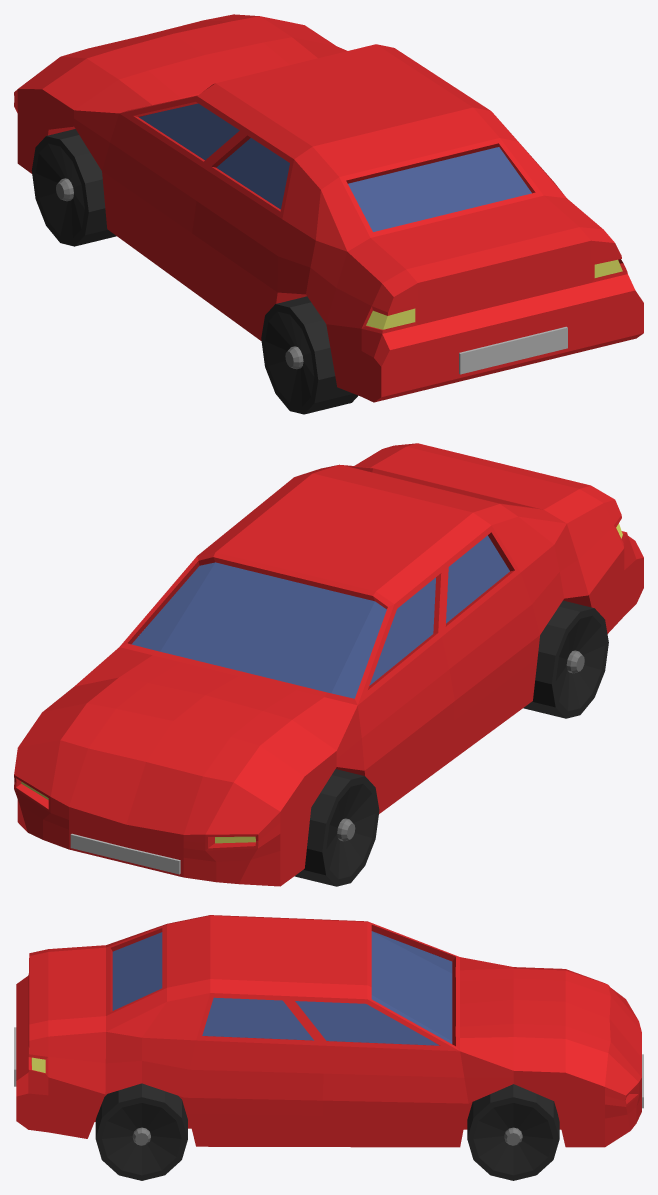
File: CarRed.fbx
3 views of the same model, one above another, from view 1: azimuth 30°, elevation 25°; view 2: azimuth 150°, elevation 25°; view 3: azimuth 270°, elevation 25° (orthographic). The views are drawn at different scales.
Parts seen in each view (by area): view 1: Car1; view 2: Car1; view 3: Car1.
Part boxes in pixels (left/top/right/bottom): Car1: left=14, top=14, right=643, bottom=414; Car1: left=14, top=443, right=643, bottom=886; Car1: left=14, top=915, right=643, bottom=1180.
Size of the model in its own units: 125 by 89.14 by 289.
